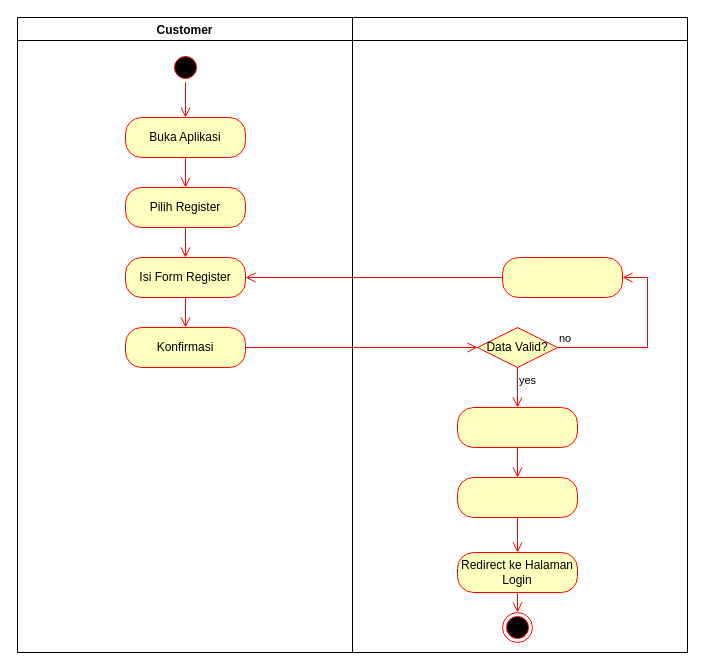
Some shapes in this 705 by 670 pixel diagram are drawn without their labels. The box of each missing label's shape, as (x1, y1, x2, y2) in pixels:
Menampilkan Pesan Berhasil: (456, 476, 578, 518)
Menampilkan Pesan Error: (502, 256, 622, 298)
Menyimpan Data: (456, 406, 578, 448)
Sistem: (352, 16, 688, 652)
